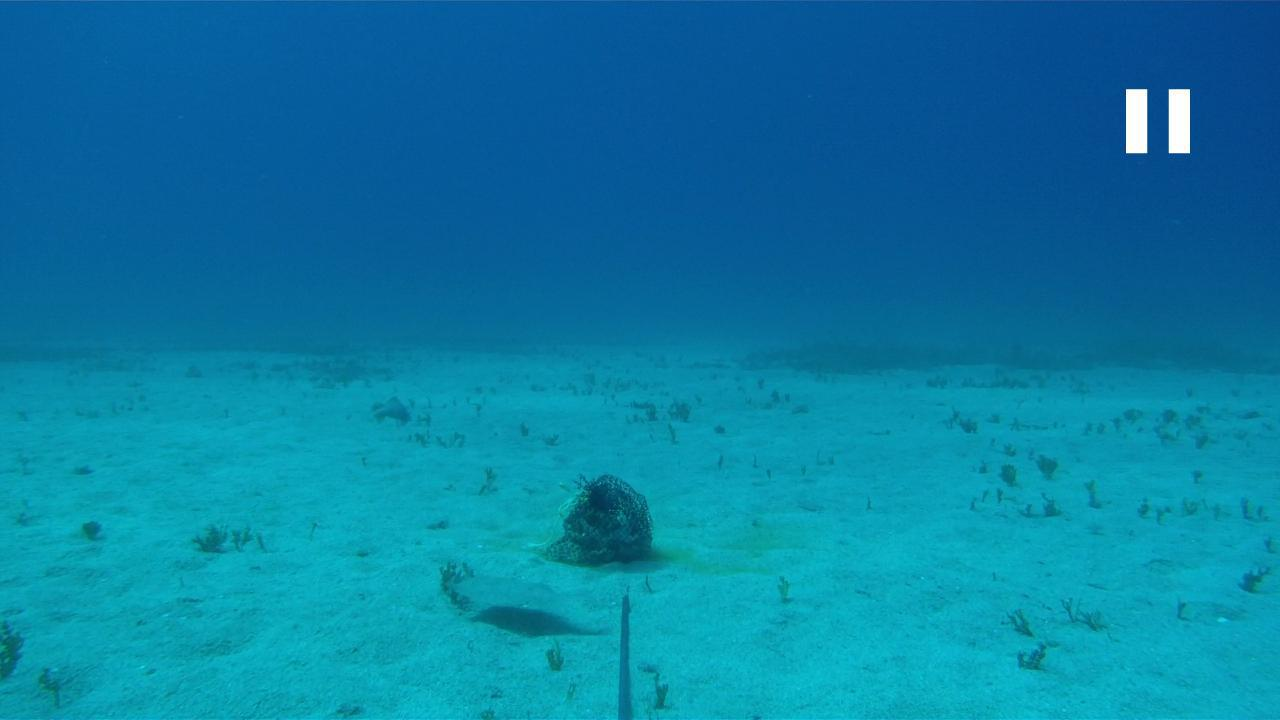bothus: (442, 568, 582, 617)
